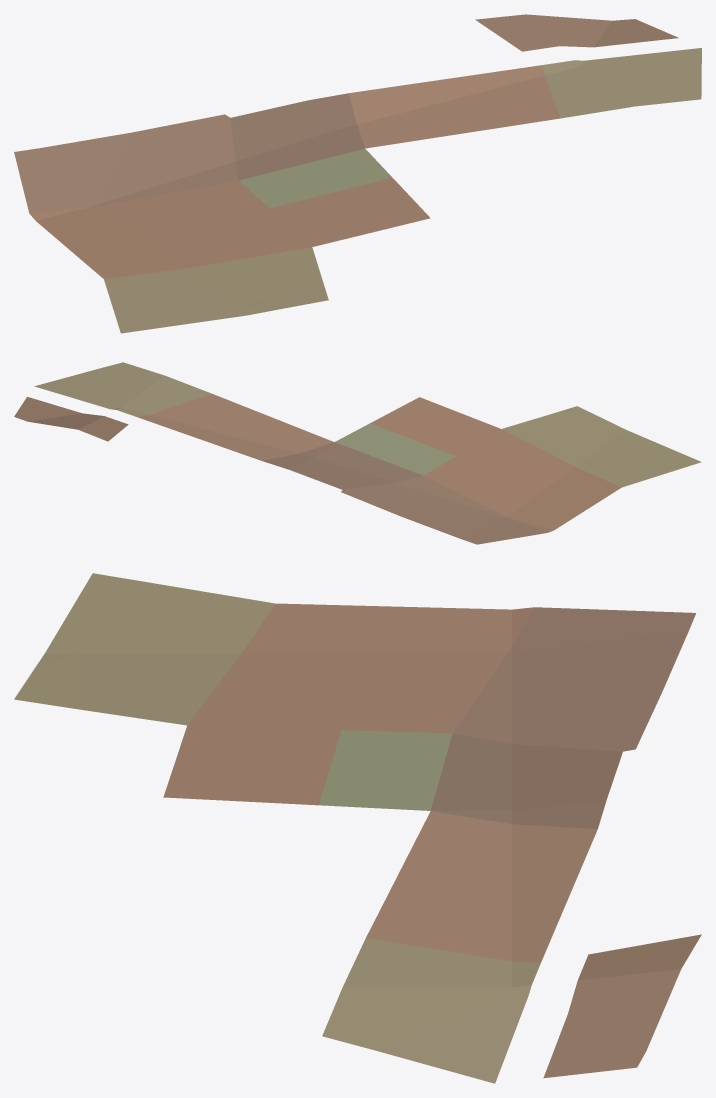
Rendered from farm_-14_-9_soil.glb.
3 views of the same model, one above another, from view 1: azimuth 30°, elevation 25°; view 2: azimuth 150°, elevation 25°; view 3: azimuth 270°, elevation 25° (orthographic). The views are drawn at different scales.
Parts seen in each view (by area): view 1: geometry_0; view 2: geometry_0; view 3: geometry_0.
Part boxes in pixels (box(x1,y1,x2,y2)): geometry_0: box(14, 14, 701, 333); geometry_0: box(14, 362, 701, 544); geometry_0: box(14, 573, 701, 1083).
Size of the model in its own units: 235 by 11.18 by 127.
